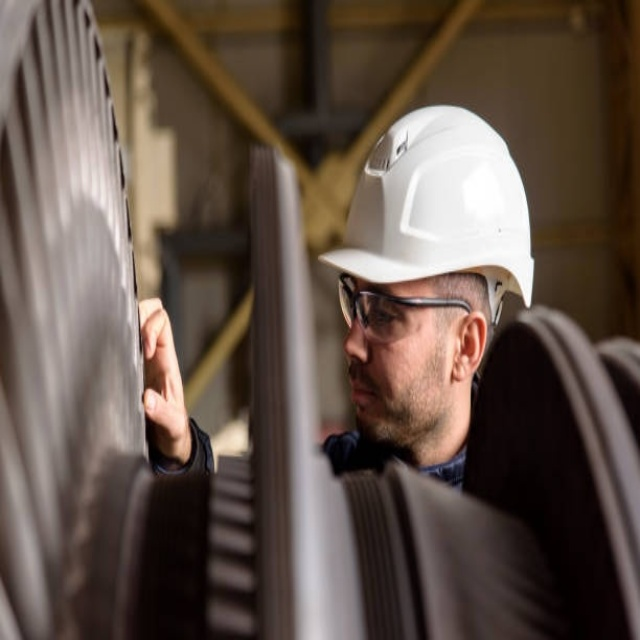Gafas: (339, 272, 488, 343)
Sin_guantes: (137, 297, 190, 456)
Sin_mascara: (343, 358, 391, 433)
